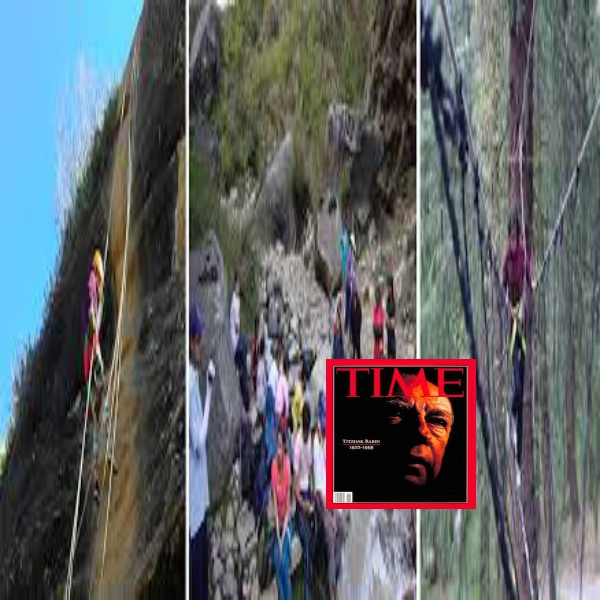time_cover: (325, 349, 478, 509)
